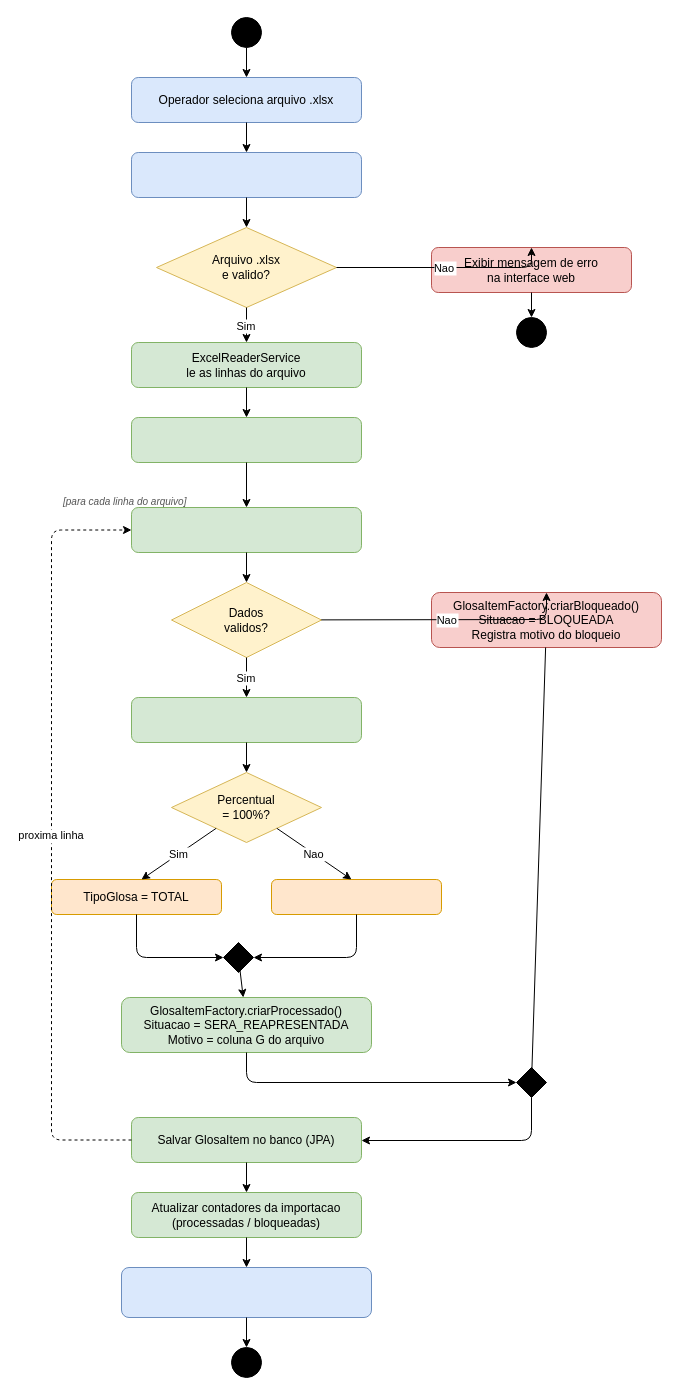
This 679x1395 diagram has some shape labels left out. Each missing label, with the box of its shape:
Criar registro GlosaImportacao (nomeArquivo, operador, data): (130, 416, 362, 462)
GlosaProcessorService valida os dados da linha: (130, 506, 362, 552)
PercentualCalculador.calcular() (Valor Glosado / Valor Total) x 100: (130, 696, 362, 742)
Renderizar resultado na interface Thymeleaf (resumo + tabela com badges visuais): (120, 1266, 372, 1318)
Sistema recebe o upload (POST /importar): (130, 152, 362, 198)
TipoGlosa = PARCIAL: (270, 878, 442, 914)
